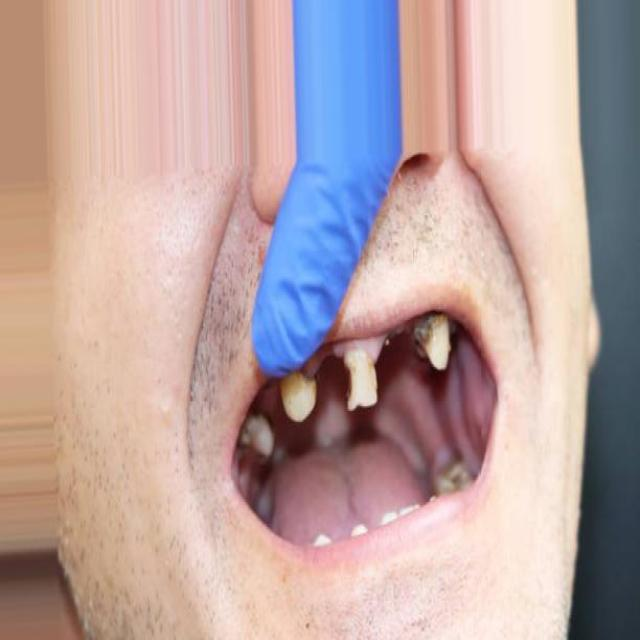caries: (339, 343, 383, 420), (411, 306, 454, 381)
